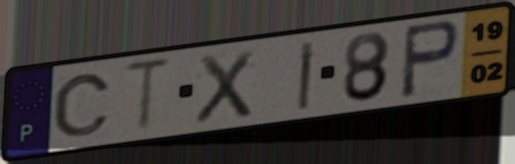8: (340, 30, 392, 105)
C: (51, 72, 114, 140)
I: (295, 38, 319, 113)
P: (397, 18, 463, 101)
T: (121, 55, 176, 137)
X: (192, 46, 256, 127)
